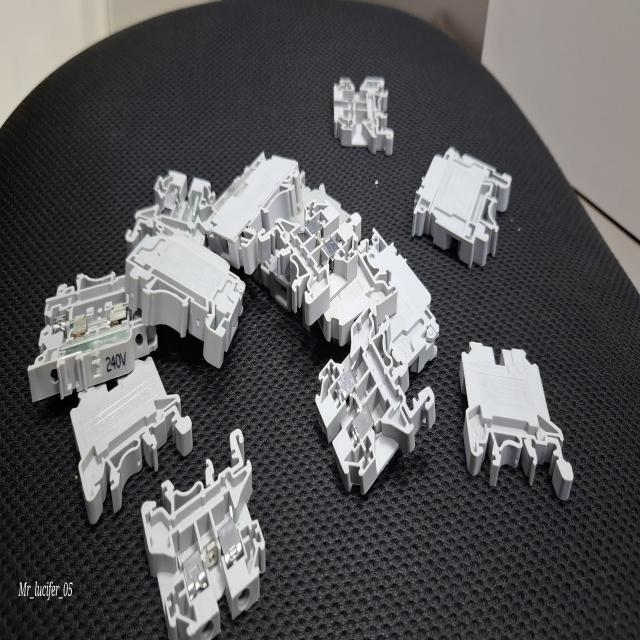Inverted: (448, 306, 590, 526)
Pass: (294, 288, 438, 524), (134, 418, 272, 640), (256, 192, 361, 328)
Reject: (123, 165, 216, 250), (323, 64, 398, 166)
